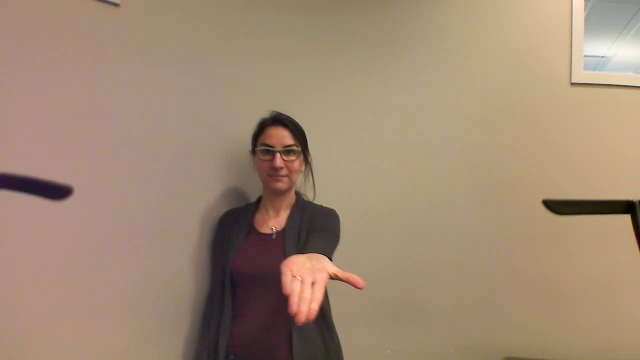land: (272, 244, 370, 328)
